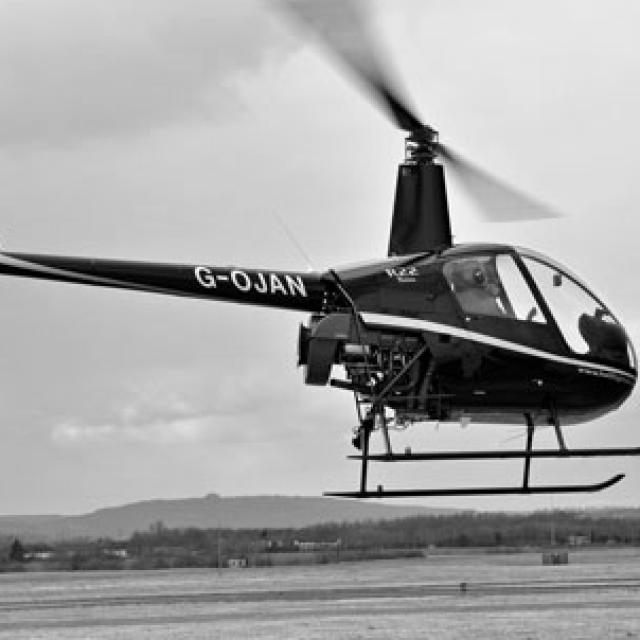helicopter: (1, 1, 640, 514)
